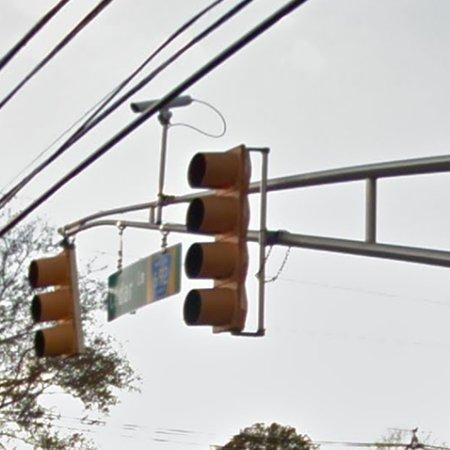traffic lights: (184, 145, 251, 333)
